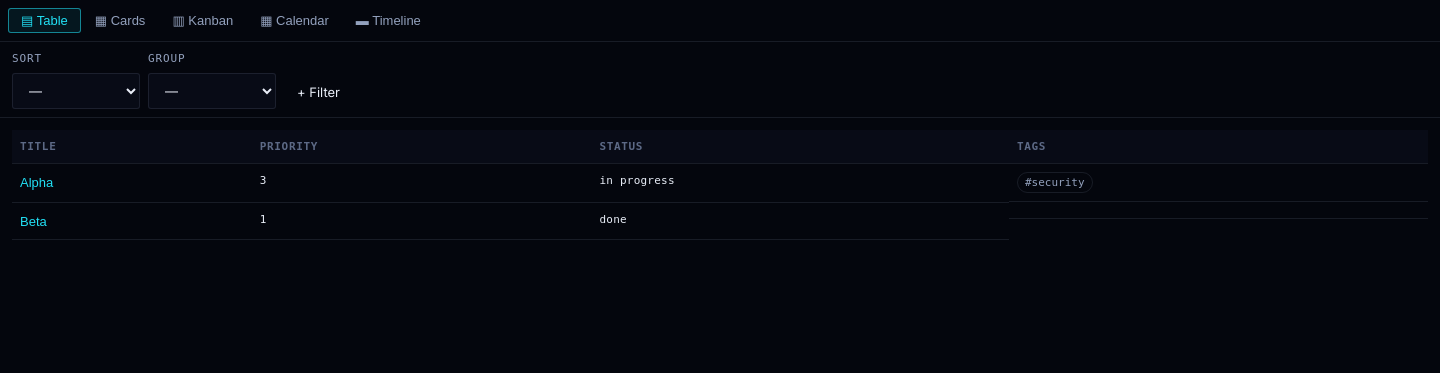
Scenario: ViewsStage › renders kanban columns when grouped
Check: the button "Alpha" is shown, box [20,175,53,190]
Click the tab "▥ Kanban". click: (203, 20)
box: [159,8,246,33]
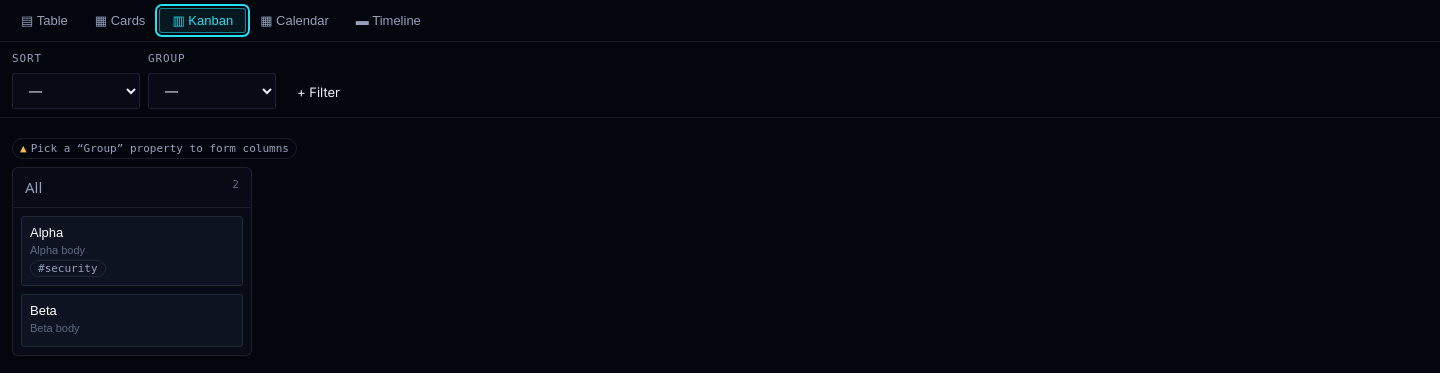
Select "status" in the dropdown labelled "Group". click: (212, 91)
box: [148,73,276,109]
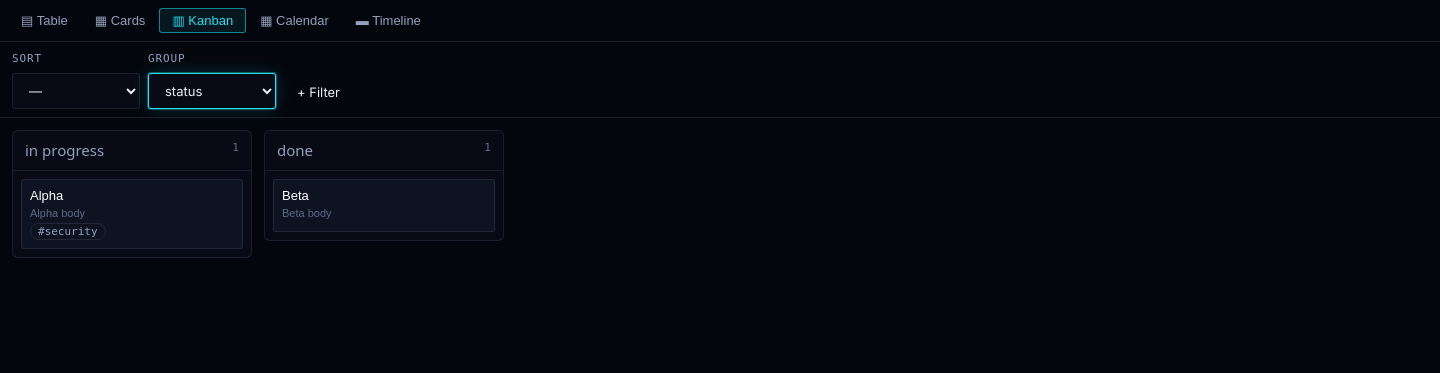
Check: the text "in progress" is shown, box [25,139,104,162]
Check: the text "done" is shown, box [277,139,313,162]
